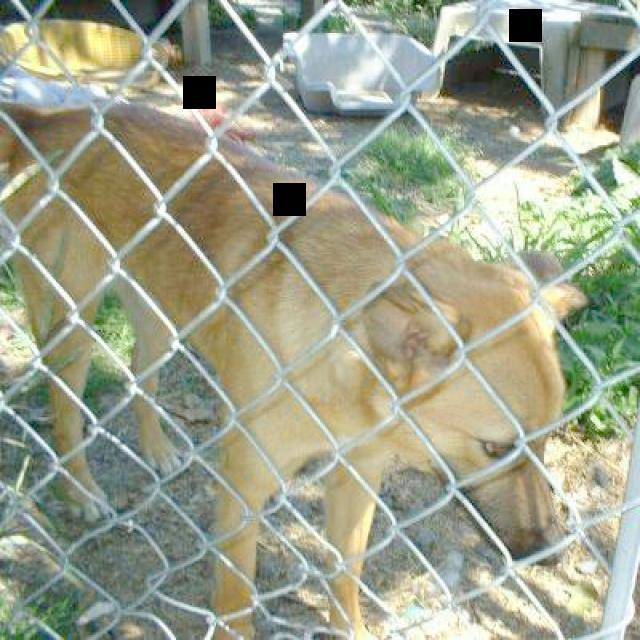adult_dog: (1, 98, 588, 640)
